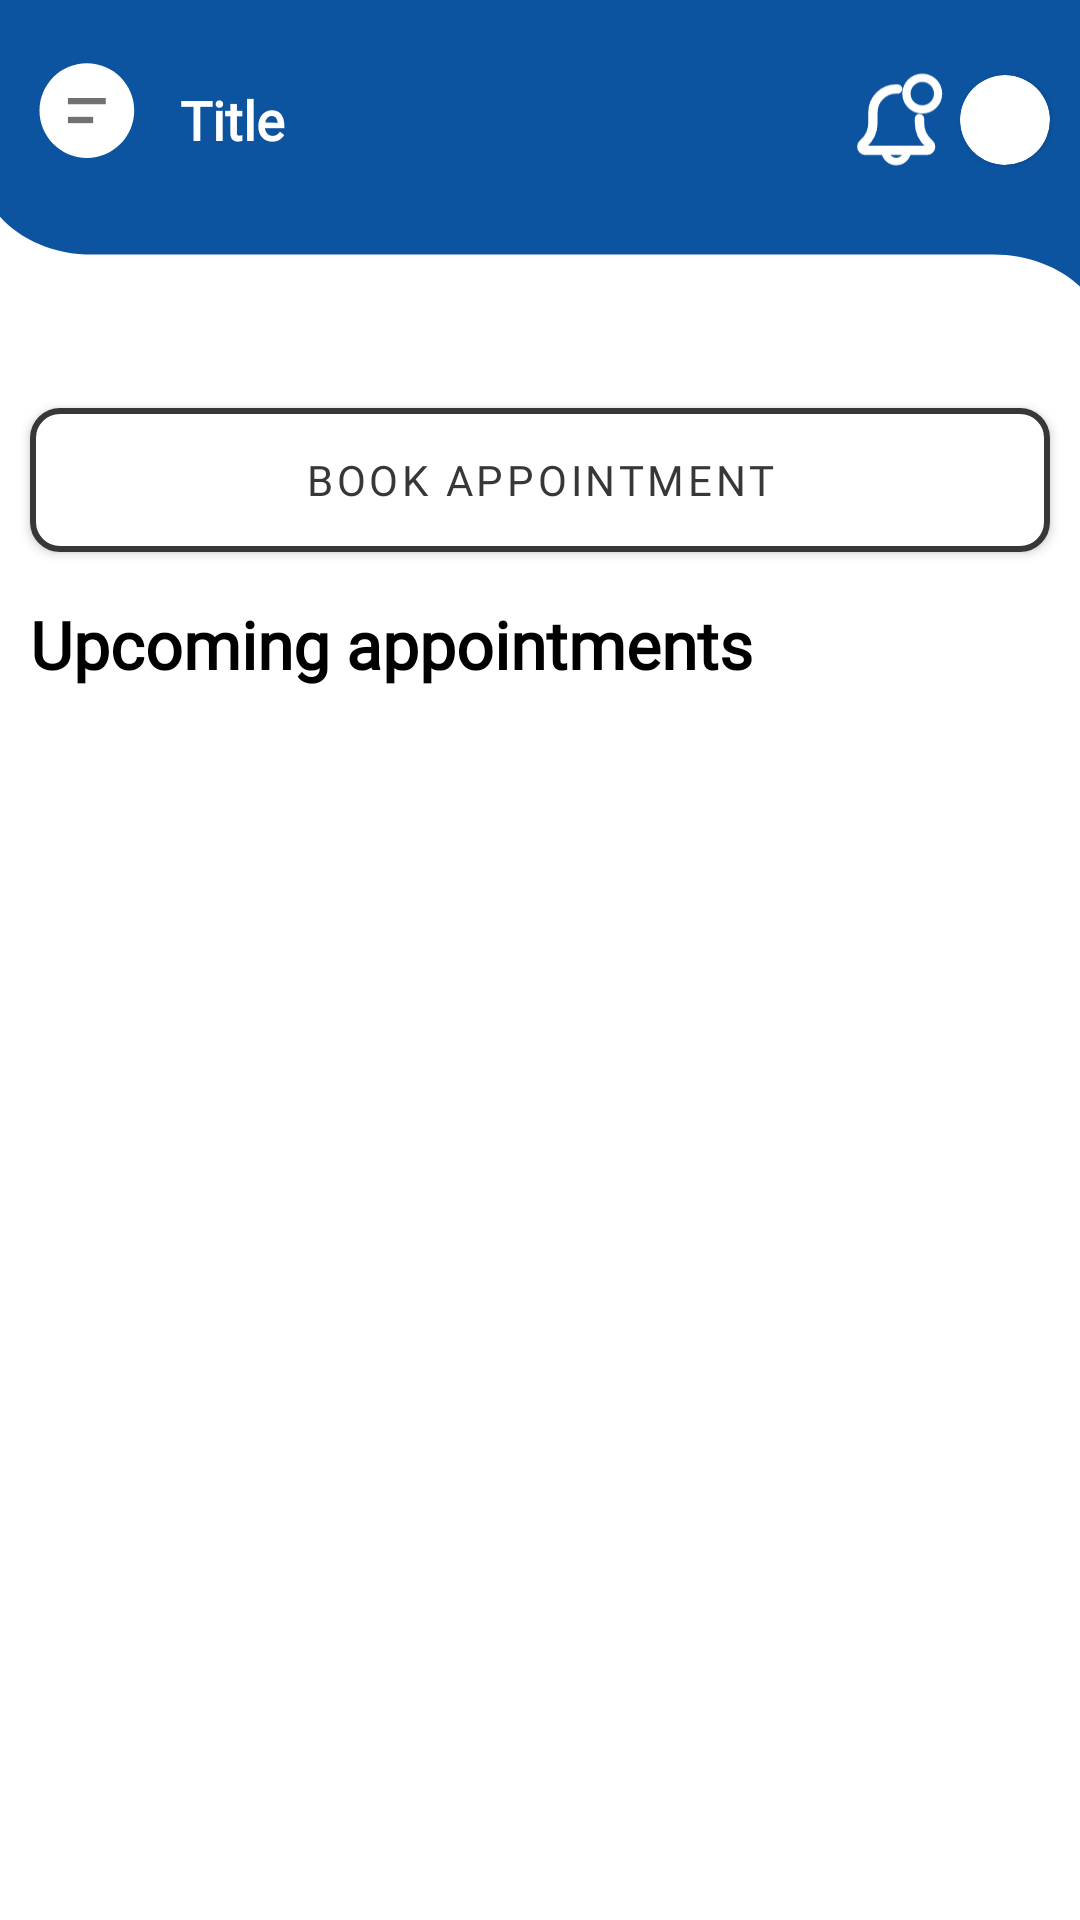

Icons on this 1080px x 1920px Android screen, each with its box as rect(x1, y1, x2, y2):
menu: rect(39, 63, 135, 158)
notification: rect(857, 73, 943, 166)
